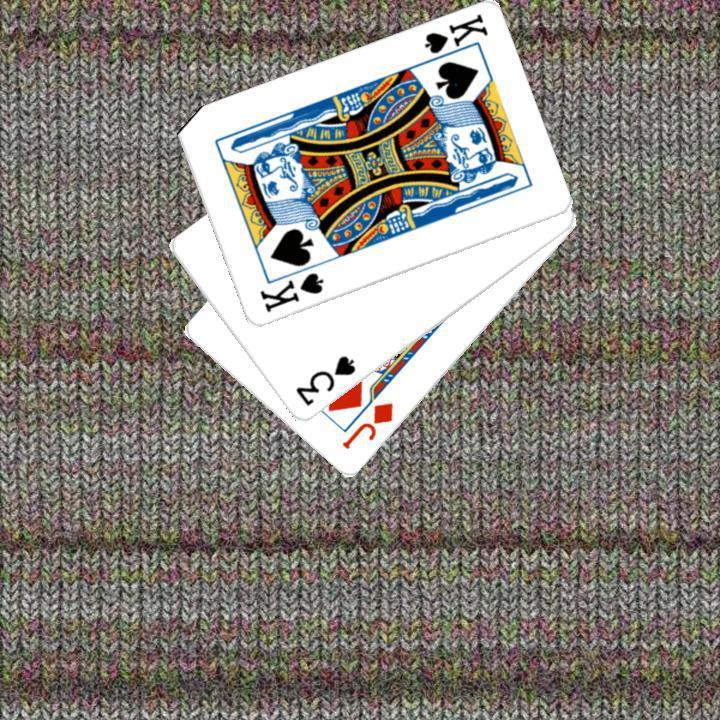3: (291, 351, 358, 409)
J: (337, 398, 396, 452)
K: (419, 10, 490, 67), (255, 268, 326, 315)
